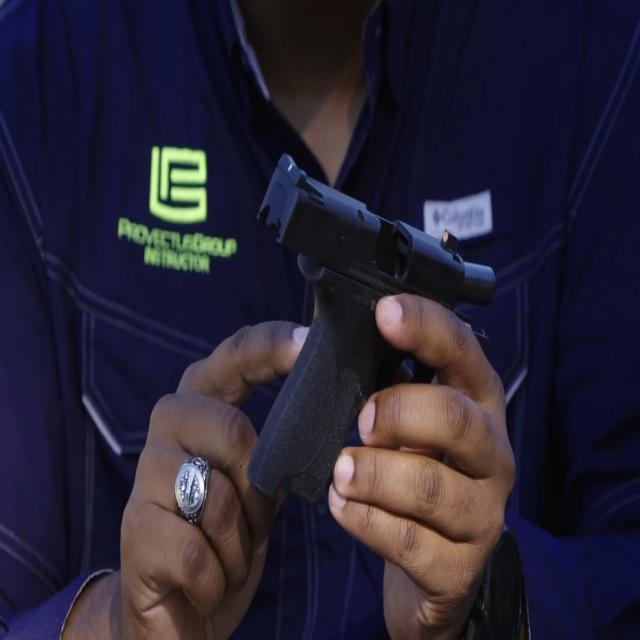handgun: (242, 157, 499, 530)
